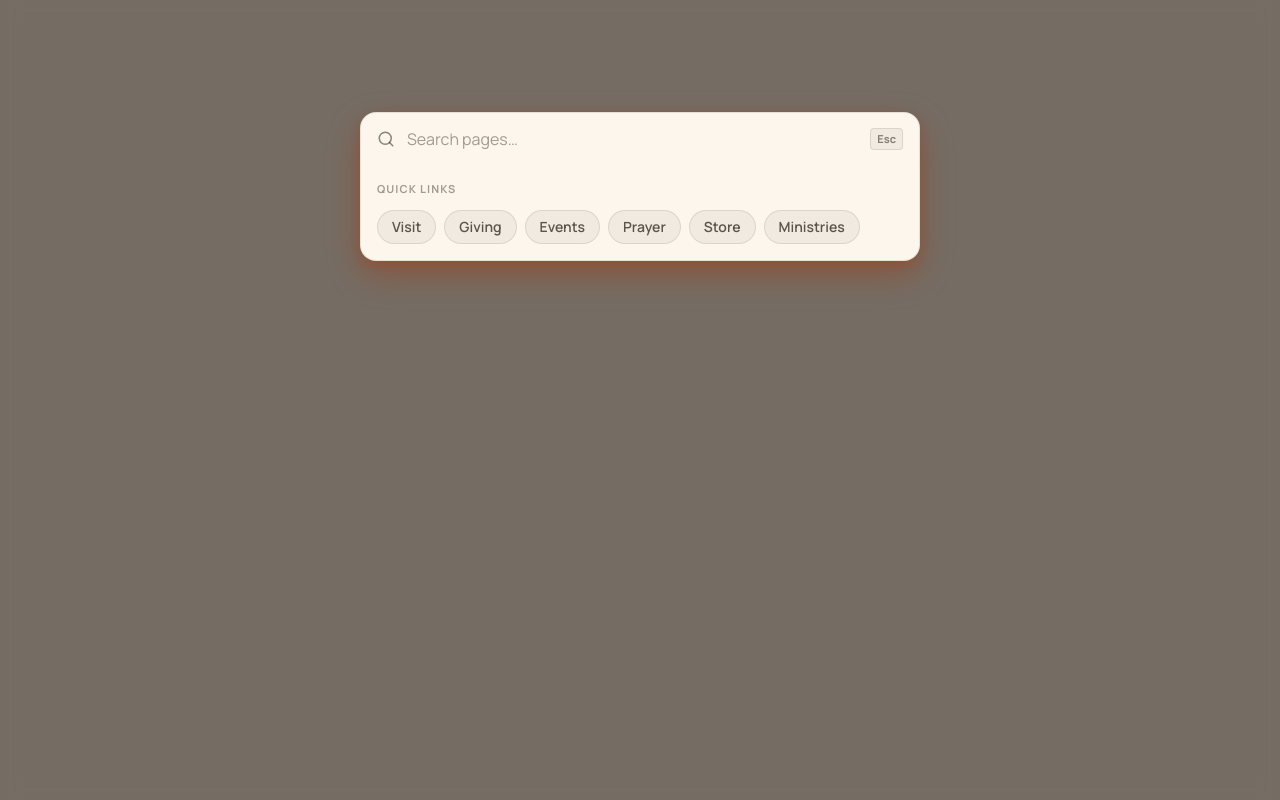
Scenario: SearchModal › filters results as the visitor types
Type "prayer" into the field named "Search the site". click: (633, 139)
box: x1=407 y1=127 x2=858 y2=151
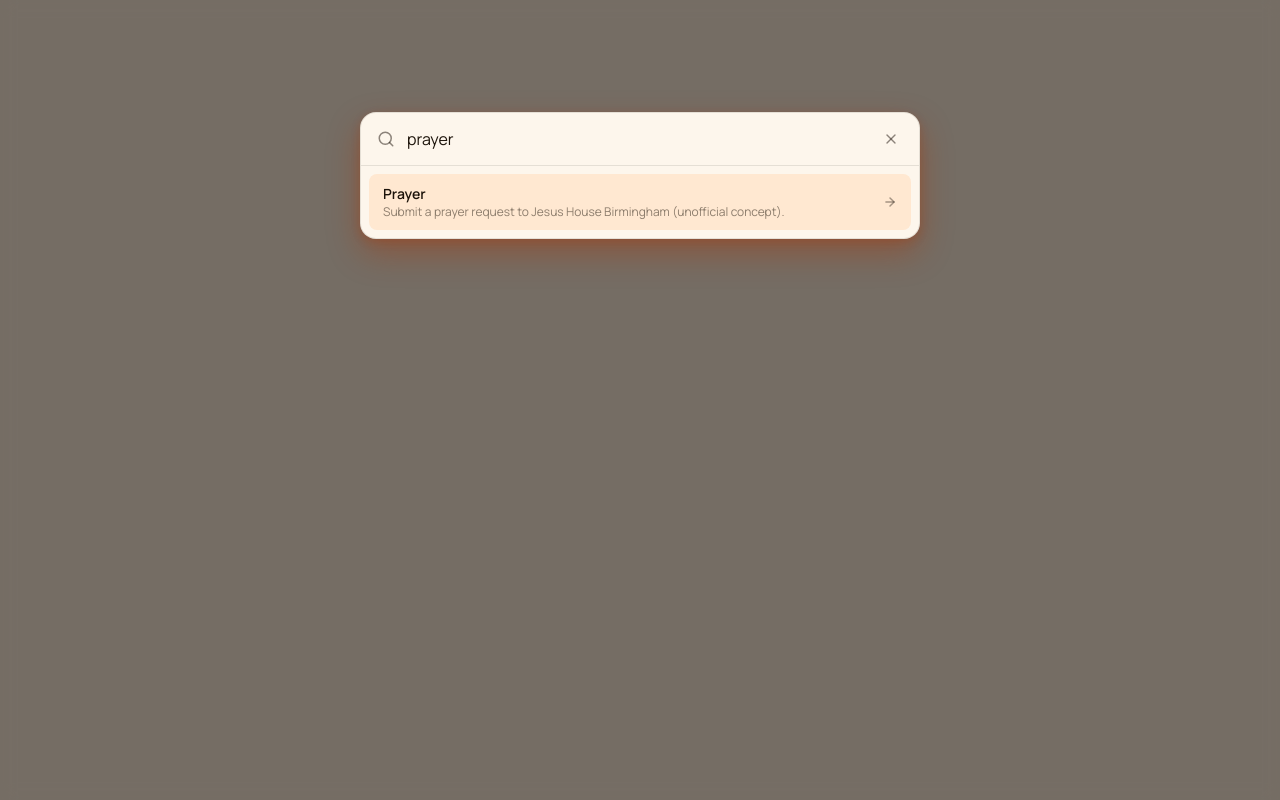
expect the text "Submit a prayer request to Jesus House Birmingham (unofficial concept)." is shown: met, box x1=383 y1=203 x2=785 y2=220
